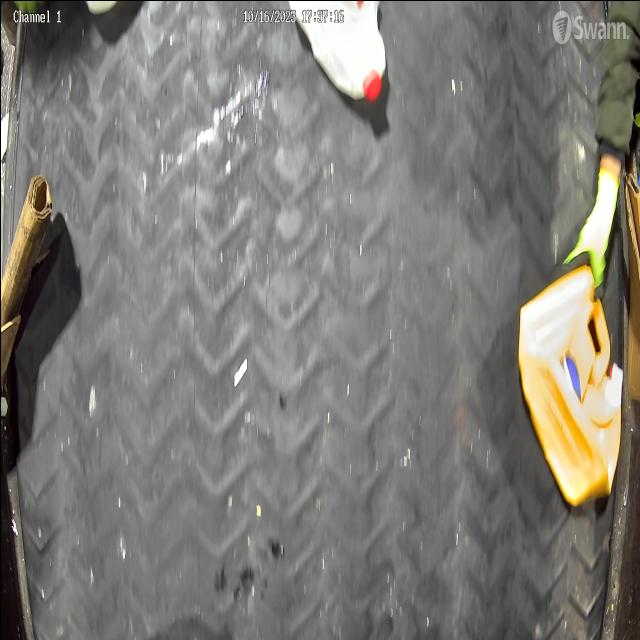milk_jug: (284, 1, 395, 105)
non_white_jug: (518, 249, 626, 504)
